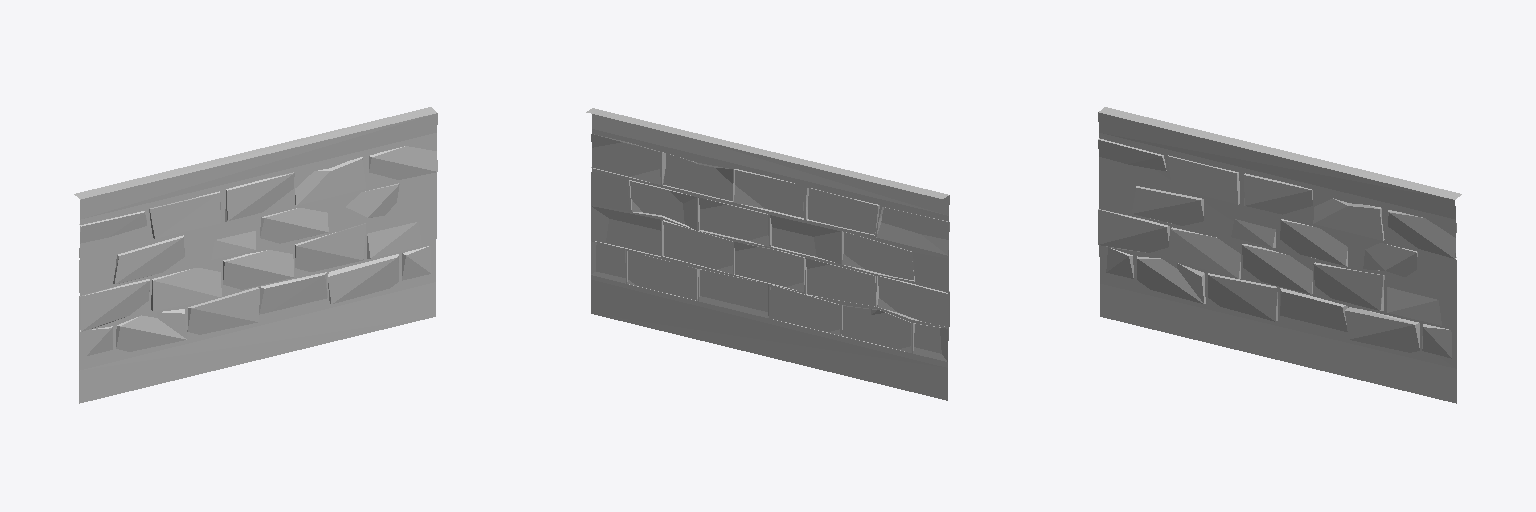
The model's file is wall_1_153tris.obj.
3 renders of one model, left to right at view 1: azimuth 30°, elevation 25°; view 2: azimuth 150°, elevation 25°; view 3: azimuth 330°, elevation 25°, orthographic.
Visible parts, largest first — view 1: Wall_OneSide; view 2: Wall_OneSide; view 3: Wall_OneSide.
Part boxes in pixels (x1,y1,x2,y2): Wall_OneSide: (74,107,437,403); Wall_OneSide: (586,108,949,400); Wall_OneSide: (1098,107,1461,403).
Bounding box in the file's own units: 2 × 1.1 × 0.0718.